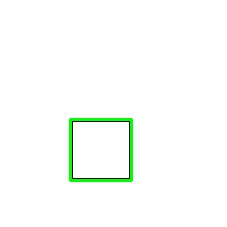line_segment: (69, 118, 133, 182)
